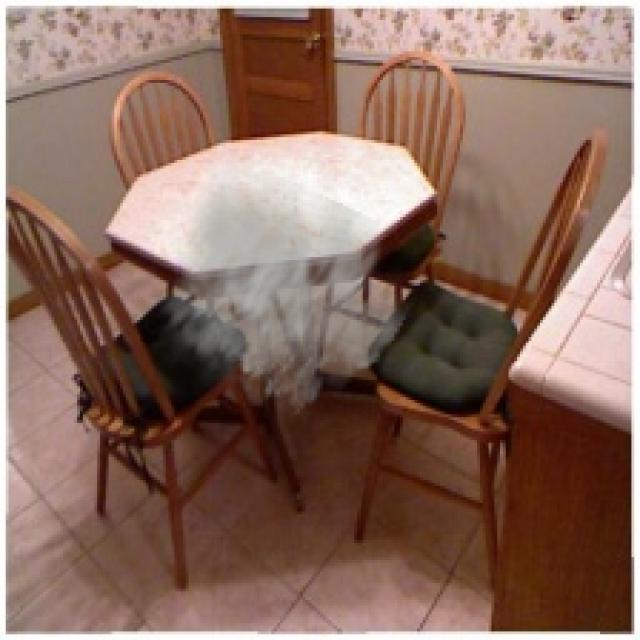smoke: (149, 154, 420, 417)
